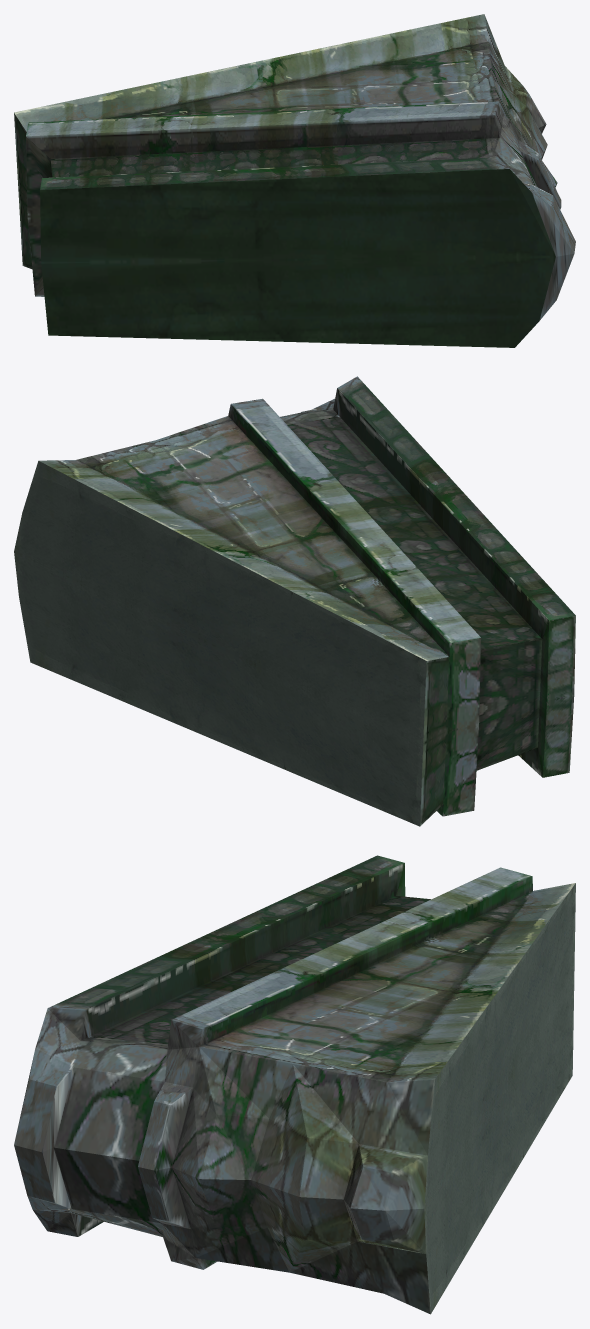
Rendered from stemple_pillar_11.fbx.
3 renders of one model, top to bottom at view 1: azimuth 30°, elevation 25°; view 2: azimuth 150°, elevation 25°; view 3: azimuth 270°, elevation 25°, orthographic. The views are drawn at different scales.
Parts seen in each view (by area): view 1: obj0.229; view 2: obj0.229; view 3: obj0.229.
Boxes of the visible parts, x1,y1,x2,y2 form: obj0.229: (14, 14, 575, 347); obj0.229: (14, 376, 575, 826); obj0.229: (14, 855, 575, 1314).
Bounding box in the file's own units: 5.42 × 2.07 × 4.33.
